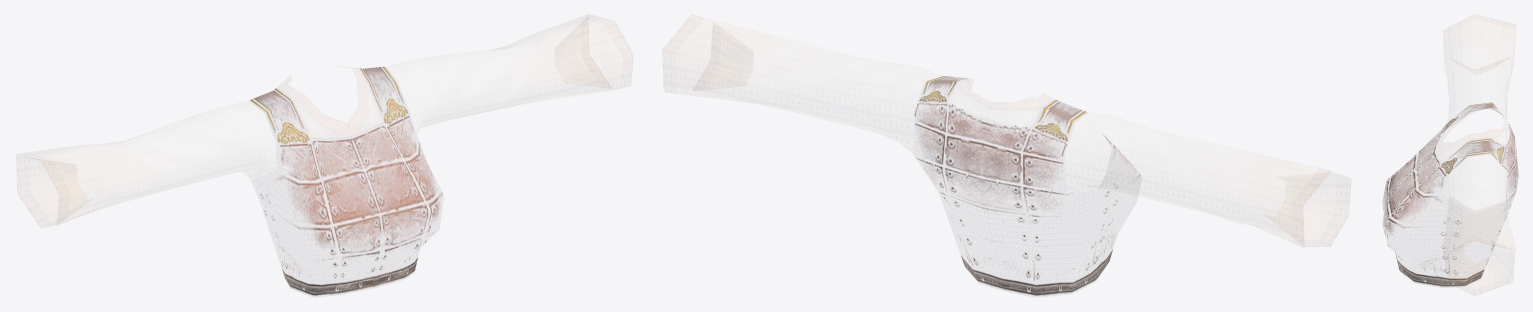
Rendered from heavy_01_ba.glb.
3 views of the same model, side by side, from view 1: azimuth 30°, elevation 25°; view 2: azimuth 150°, elevation 25°; view 3: azimuth 270°, elevation 25° (orthographic). The views are drawn at different scales.
Visible parts, largest first — view 1: Heavy_01_ba; view 2: Heavy_01_ba; view 3: Heavy_01_ba.
Boxes of the visible parts, x1,y1,x2,y2 form: Heavy_01_ba: [36, 17, 609, 295]; Heavy_01_ba: [693, 24, 1327, 295]; Heavy_01_ba: [1383, 57, 1518, 286].
Bounding box in the file's own units: 1 × 0.3489 × 0.2544.
Materials: 1 (1 with a texture image).
